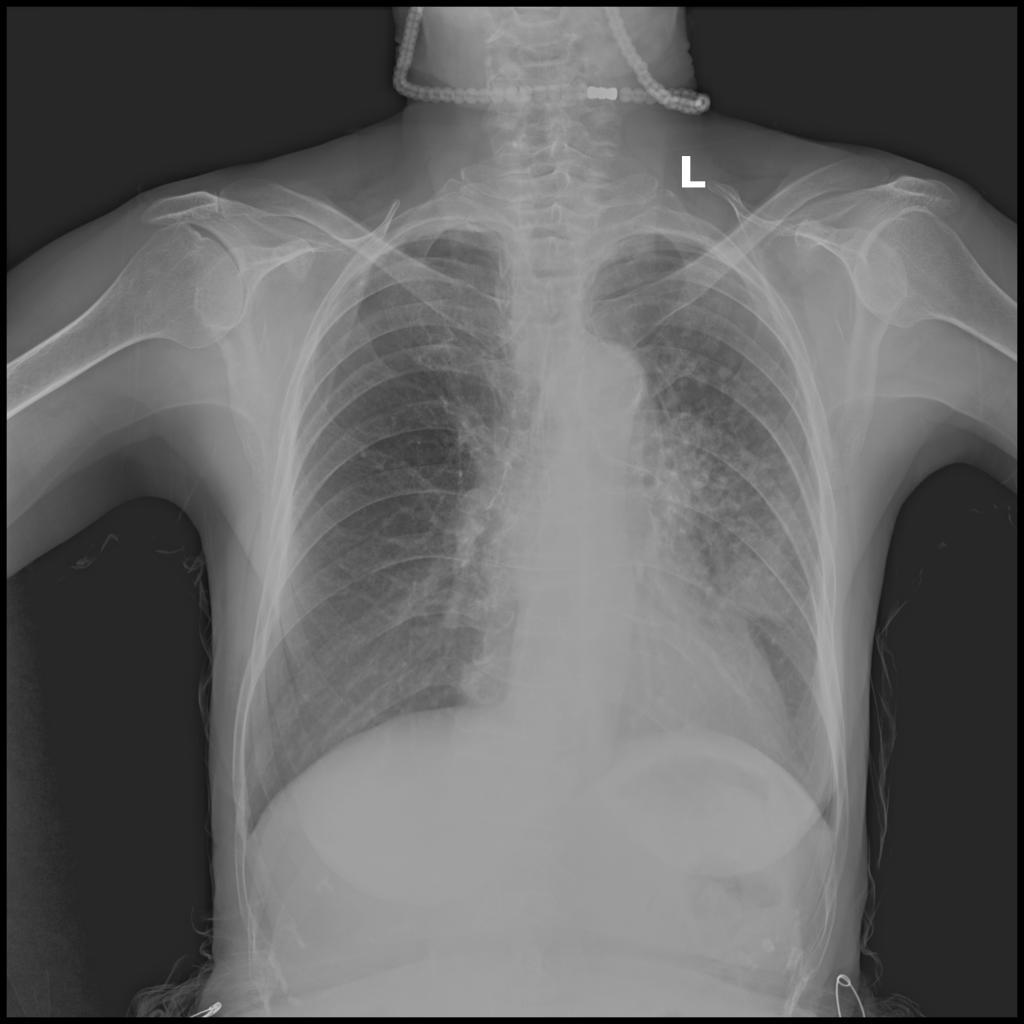Nodule: (719, 538, 792, 623)
